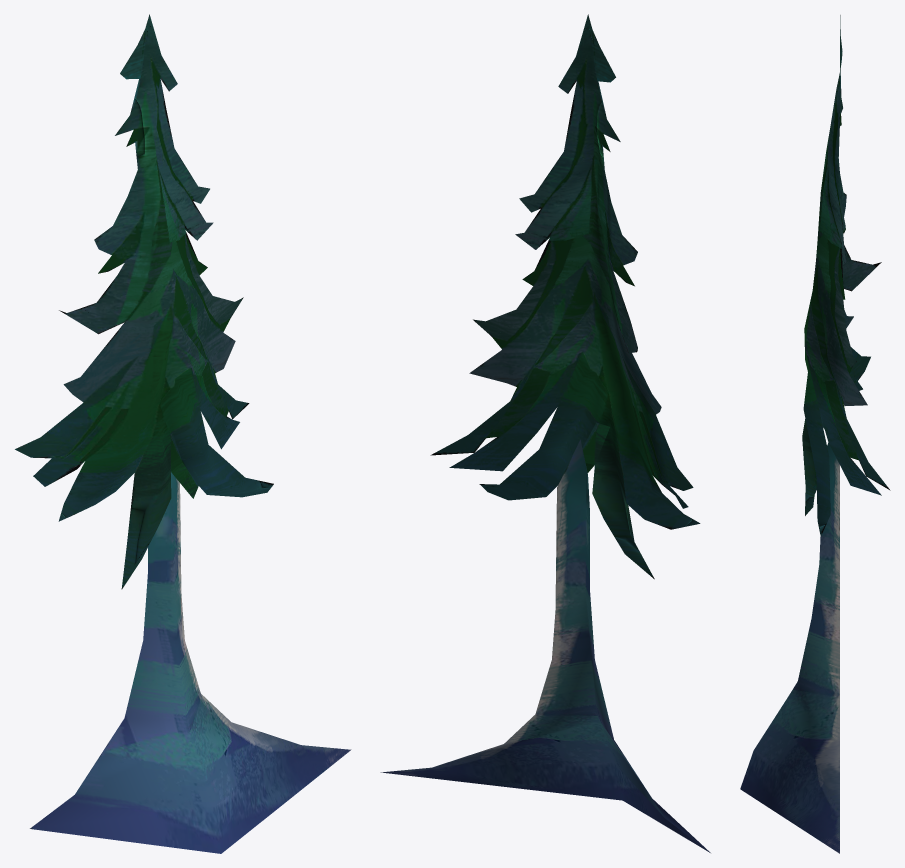
The model's file is tree_saturated.fbx.
3 renders of one model, left to right at view 1: azimuth 30°, elevation 25°; view 2: azimuth 150°, elevation 25°; view 3: azimuth 270°, elevation 25°, orthographic. The views are drawn at different scales.
Visible parts, largest first — view 1: tree_top, tree_bottom; view 2: tree_top, tree_bottom; view 3: tree_bottom, tree_top.
Part boxes in pixels (x1,y1,x2,y2): tree_top: [15, 14, 273, 589]; tree_bottom: [30, 472, 351, 853]; tree_top: [430, 14, 700, 579]; tree_bottom: [380, 439, 710, 852]; tree_bottom: [740, 443, 839, 853]; tree_top: [802, 15, 890, 536].
Size of the model in its own units: 1.72 by 4.1 by 0.7314.
